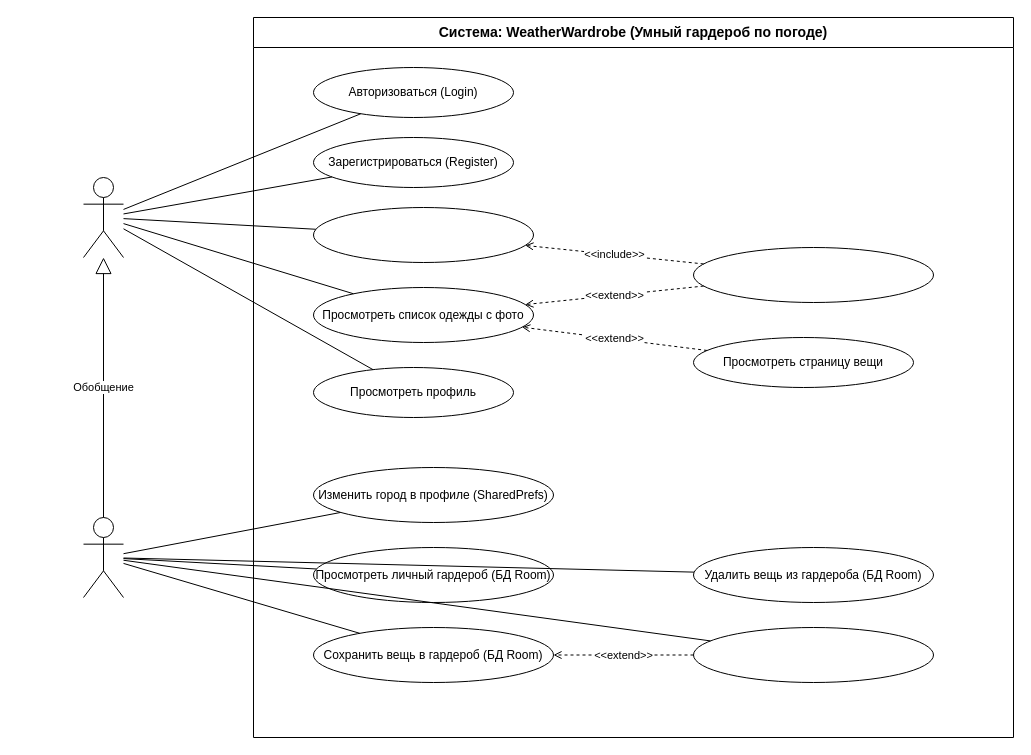
The diagram is 1031 pixels wide and 755 high, and some of its shapes have lost their labels. The shapes that lost their labels are listed below. From the top down, each one's box as (x1, y1, x2, y2) in pixels, then its label:
(82, 176, 124, 258): Гость
(312, 206, 534, 262): Просмотреть текущую погоду (JSON)
(692, 246, 934, 302): Подобрать одежду под температуру
(82, 516, 124, 598): Авторизованный пользователь
(692, 626, 934, 682): Распознать одежду по фото (TFLite)
